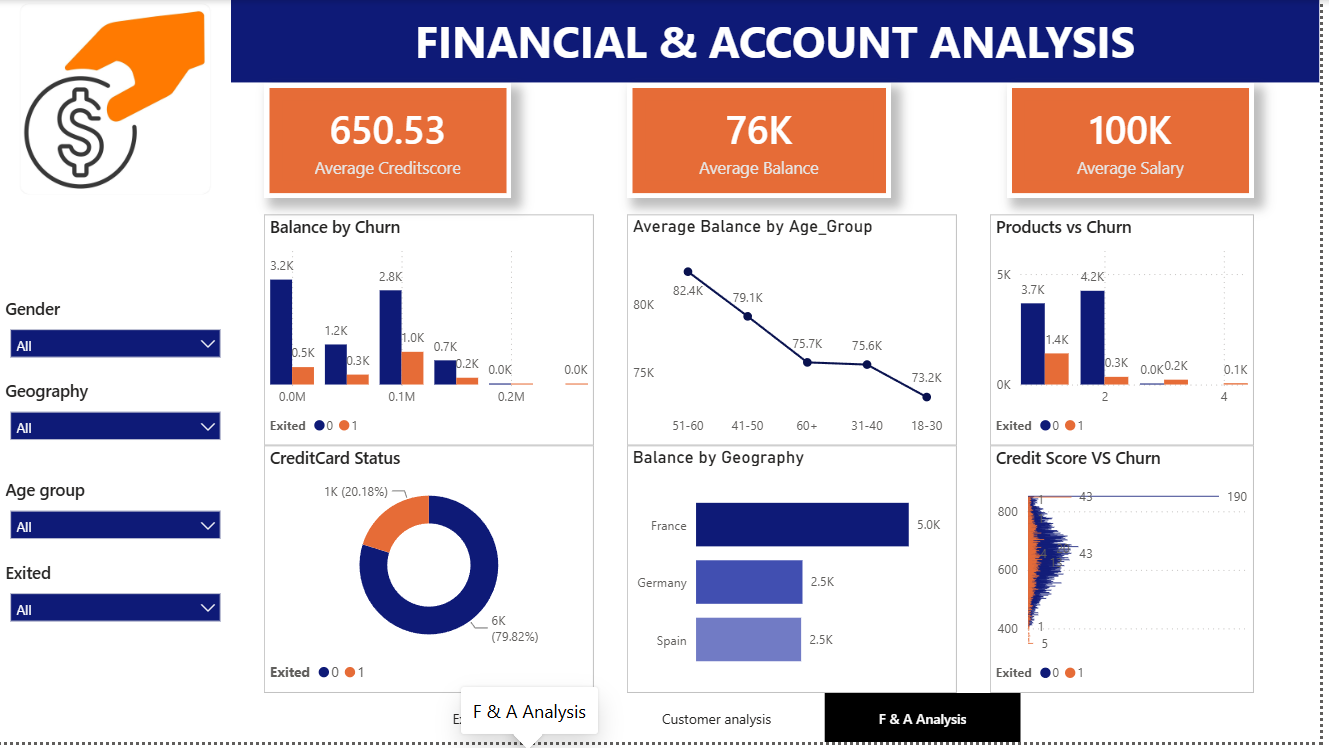

This screenshot's page, from the dashboard's own definition file:
{"tool":"powerbi","page":{"name":"F & A Analysis","canvas":[1280,720],"ordinal":2},"visuals":[{"type":"image","box":[0,0,224,192],"z":0},{"type":"textbox","box":[224,0,1056,80],"z":1000},{"type":"clusteredColumnChart","title":"Balance by Churn","fields":{"Y":["CountNonNull(Bank_Churn.CustomerId)"],"Series":["Bank_Churn.Exited"],"Category":["Bank_Churn.Balance (bins)"]},"box":[256,208,320,224],"z":2000},{"type":"clusteredBarChart","title":"Credit Score VS Churn","fields":{"Series":["Bank_Churn.Exited"],"Category":["Bank_Churn.CreditScore"],"Y":["CountNonNull(Bank_Churn.CustomerId)"]},"box":[960,432,256,240],"z":3000},{"type":"cardVisual","fields":{"Data":["Bank_Churn.Average Balance"]},"box":[608,80,256,112],"z":4000},{"type":"cardVisual","fields":{"Data":["Bank_Churn.Average Salary"]},"box":[976,80,240,112],"z":5000},{"type":"cardVisual","fields":{"Data":["Bank_Churn.Average Creditscore"]},"box":[256,80,240,112],"z":6000},{"type":"slicer","title":"Gender","fields":{"Values":["Bank_Churn.Gender"]},"box":[0,288,224,80],"z":7000},{"type":"slicer","title":"Geography","fields":{"Values":["Bank_Churn.Geography"]},"box":[0,368,224,80],"z":8000},{"type":"slicer","title":"Age group","fields":{"Values":["Bank_Churn.Age_Group"]},"box":[0,464,224,80],"z":9000},{"type":"slicer","title":"Exited","fields":{"Values":["Bank_Churn.Exited"]},"box":[0,544,224,80],"z":10000},{"type":"lineChart","fields":{"Category":["Bank_Churn.Age_Group"],"Y":["Bank_Churn.Average Balance"]},"box":[608,208,320,224],"z":11000},{"type":"barChart","title":"Balance by Geography","fields":{"Y":["CountNonNull(Bank_Churn.Balance (bins))"],"Category":["Bank_Churn.Geography"]},"box":[608,432,320,240],"z":11001},{"type":"clusteredColumnChart","title":"Products vs Churn","fields":{"Y":["CountNonNull(Bank_Churn.CustomerId)"],"Series":["Bank_Churn.Exited"],"Category":["Bank_Churn.NumOfProducts"]},"box":[960,208,256,224],"z":11002},{"type":"donutChart","title":"CreditCard Status","fields":{"Category":["Bank_Churn.Exited"],"Y":["Sum(Bank_Churn.HasCrCard)"]},"box":[256,432,320,240],"z":11003},{"type":"pageNavigator","box":[400,672,592,48],"z":11004}]}

Visuals, with their boxes on the page's 1280x720 design canvas (x1, y1, x2, y2). These are canvas units, not pixel positions in the 1329x748 screenshot, which may show the page scaled, cropped or inside an application window:
image: l=0, t=0, r=224, b=192
textbox: l=224, t=0, r=1280, b=80
"Balance by Churn" clusteredColumnChart: l=256, t=208, r=576, b=432
"Credit Score VS Churn" clusteredBarChart: l=960, t=432, r=1216, b=672
cardVisual - Bank_Churn.Average Balance: l=608, t=80, r=864, b=192
cardVisual - Bank_Churn.Average Salary: l=976, t=80, r=1216, b=192
cardVisual - Bank_Churn.Average Creditscore: l=256, t=80, r=496, b=192
"Gender" slicer: l=0, t=288, r=224, b=368
"Geography" slicer: l=0, t=368, r=224, b=448
"Age group" slicer: l=0, t=464, r=224, b=544
"Exited" slicer: l=0, t=544, r=224, b=624
lineChart - Bank_Churn.Age_Group x Bank_Churn.Average Balance: l=608, t=208, r=928, b=432
"Balance by Geography" barChart: l=608, t=432, r=928, b=672
"Products vs Churn" clusteredColumnChart: l=960, t=208, r=1216, b=432
"CreditCard Status" donutChart: l=256, t=432, r=576, b=672
pageNavigator: l=400, t=672, r=992, b=720
